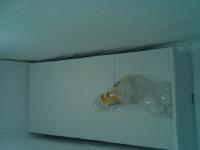bottle: (94, 76, 172, 117)
